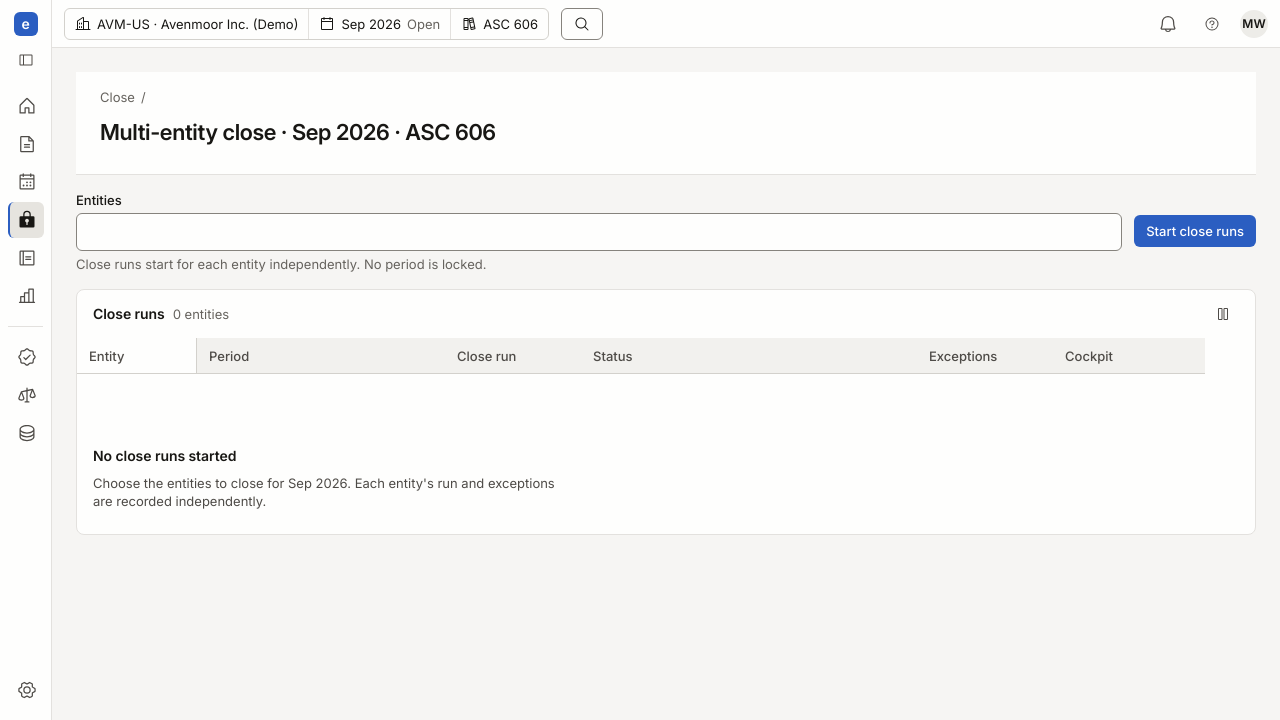
SF-05:multi-entity › asks for an entity before it starts anything
Expected: the heading "No close runs started" is shown, [93,446,236,466]
Expected: the text "Choose the entities to close for Sep 2026. Each entity's run and exceptions are recorded independently." is shown, [93,475,555,509]
Click the button "Start close runs": (1195, 231) [1134,215,1256,247]
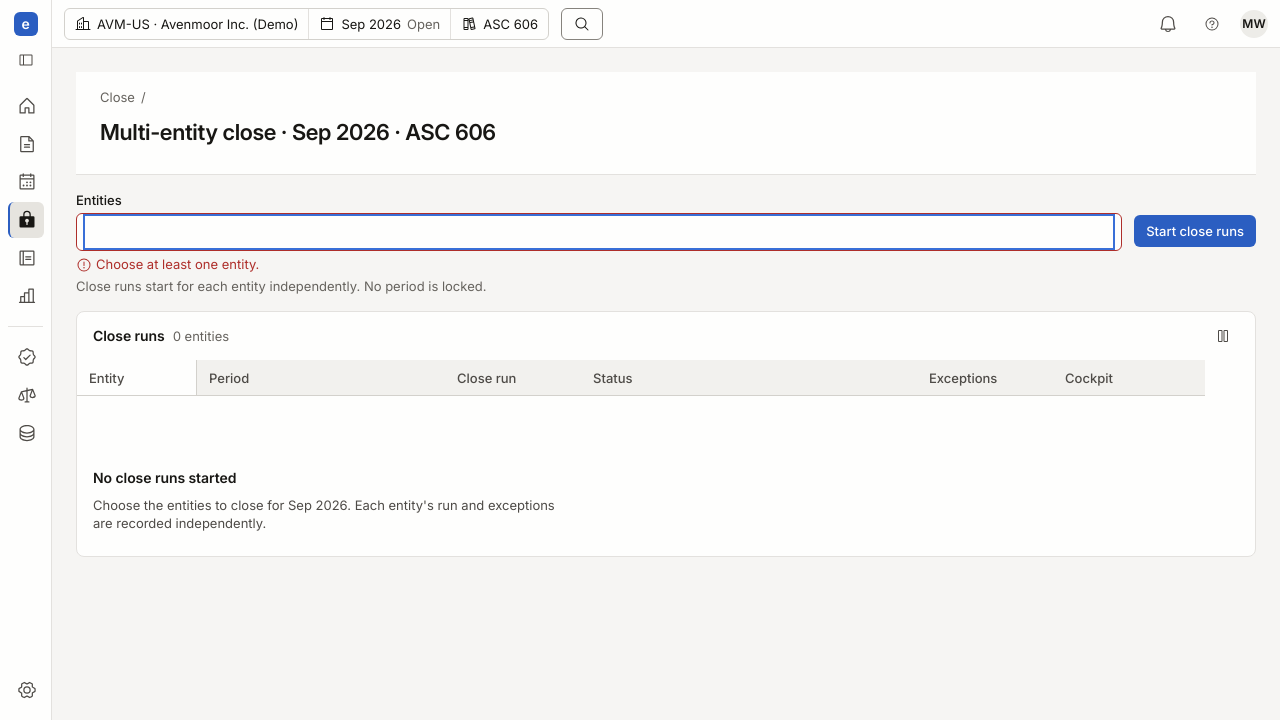
Expected: the text "Choose at least one entity." is shown, [76,256,259,273]
In the dropdown labelled "Entities": (599, 232) [87,218,1111,246], type "AVM-DE"
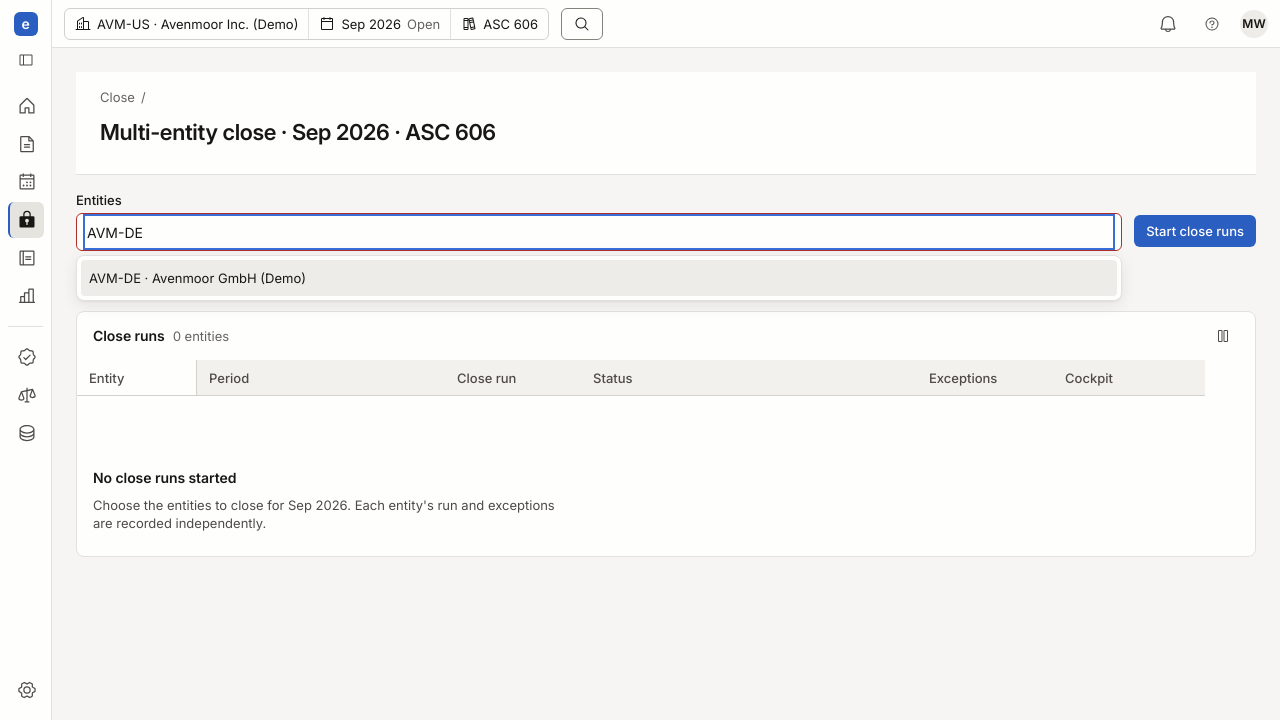
Press the mouse on the option "AVM-DE · Avenmoor GmbH (Demo)": (197, 278) [81,260,1117,296]
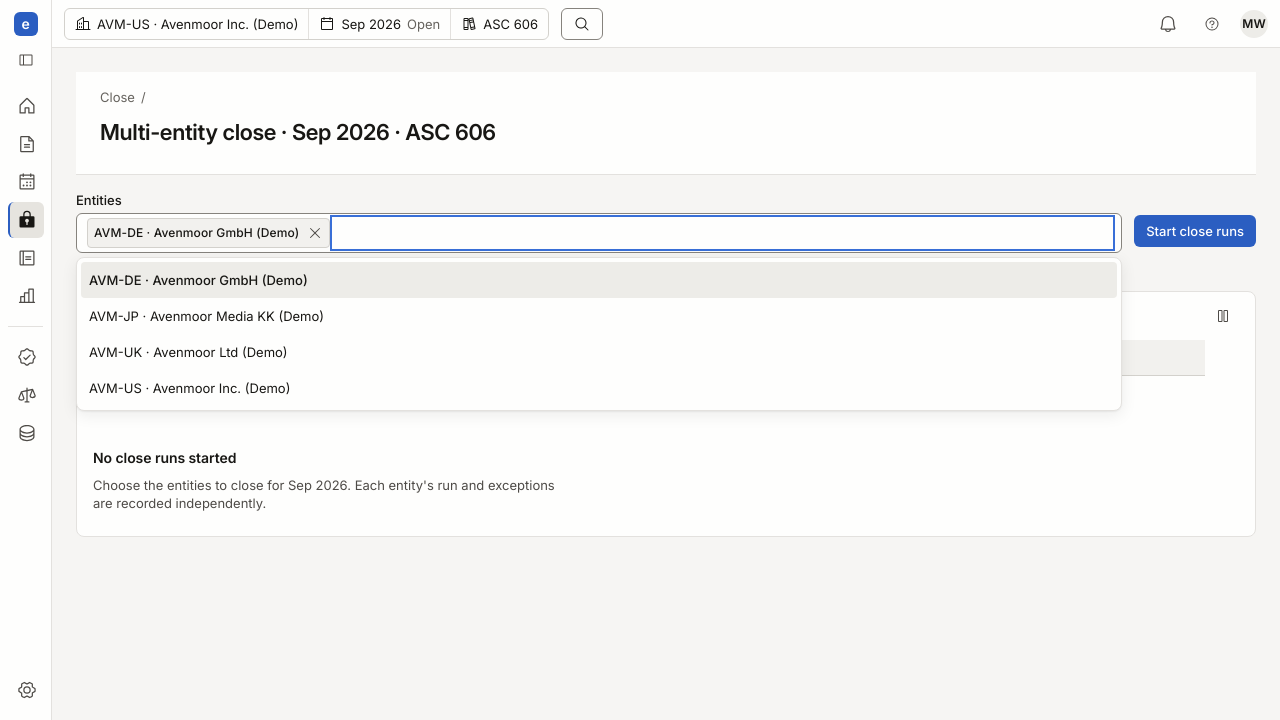
Expected: the text "Choose at least one entity." is gone
